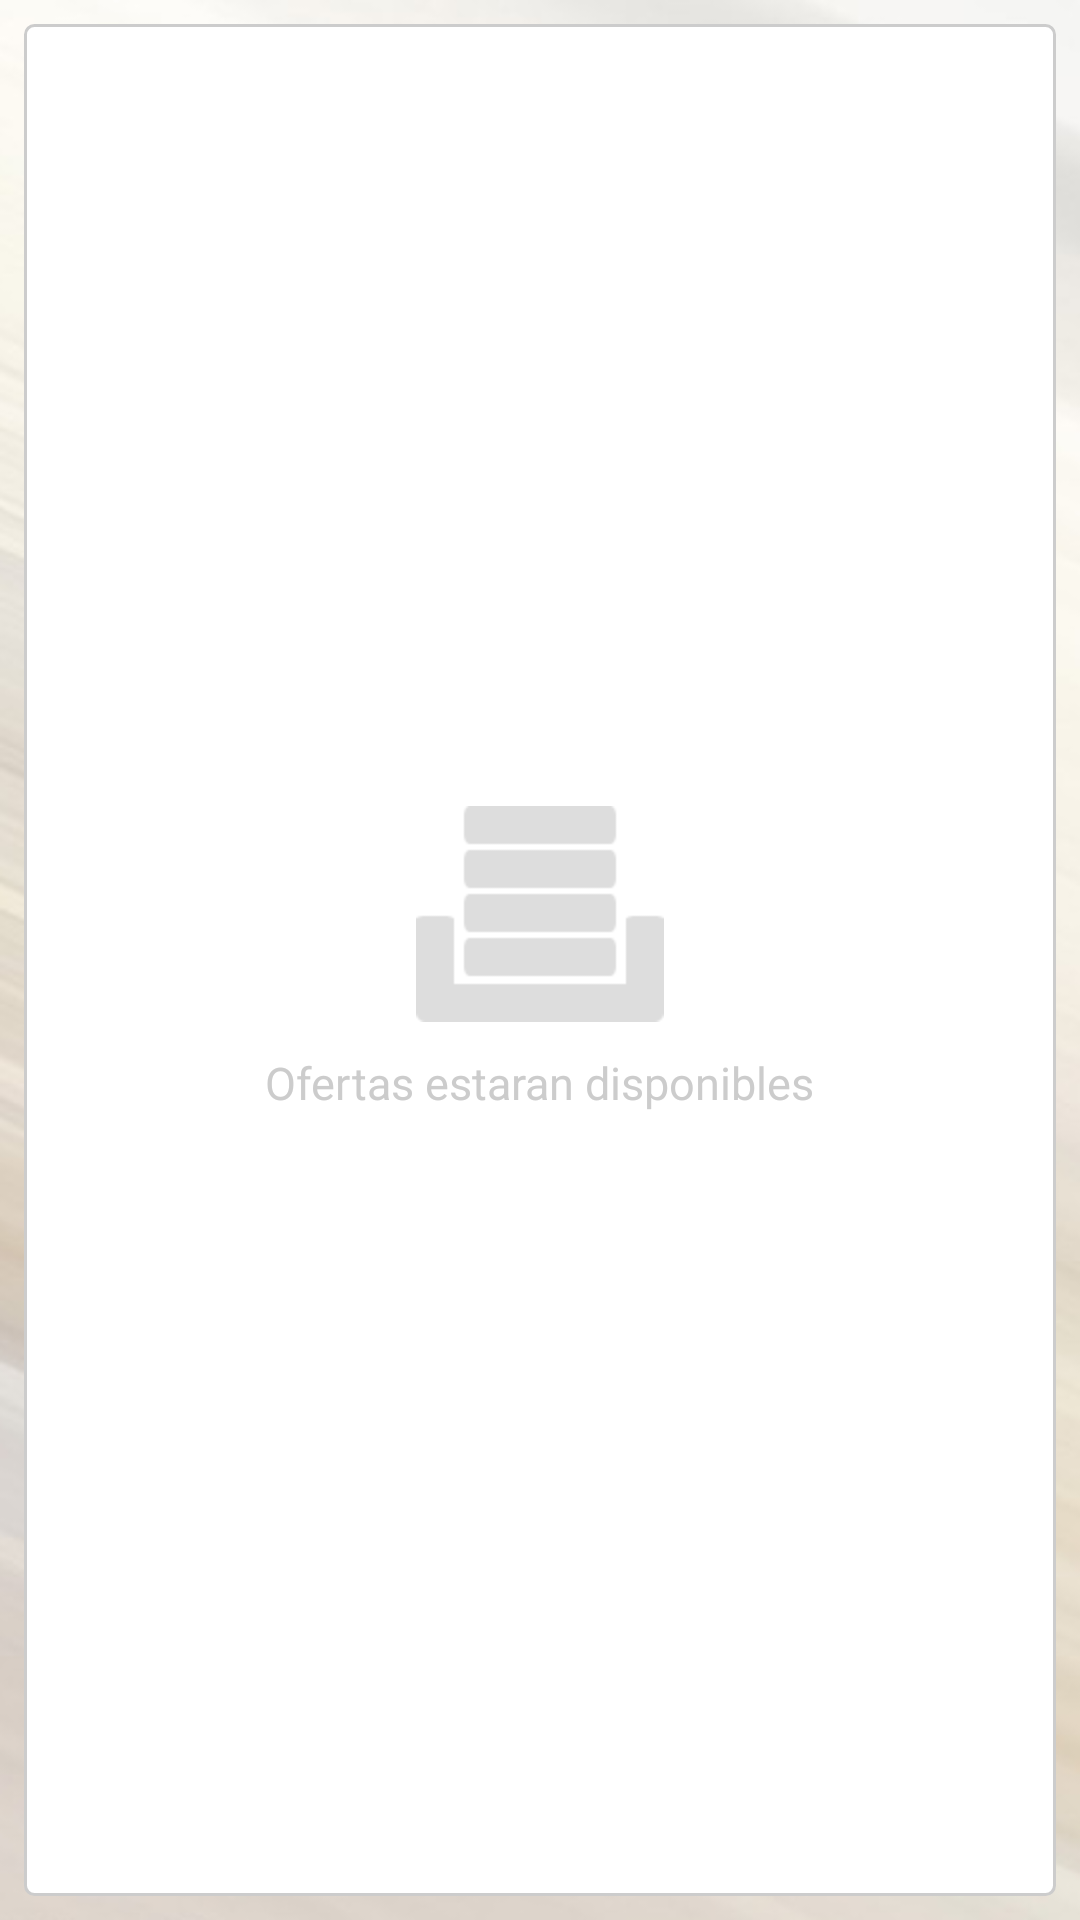

Where to tap for icons on this 1080×1920 app screen, as [x,y]:
empty data: [540,914]
